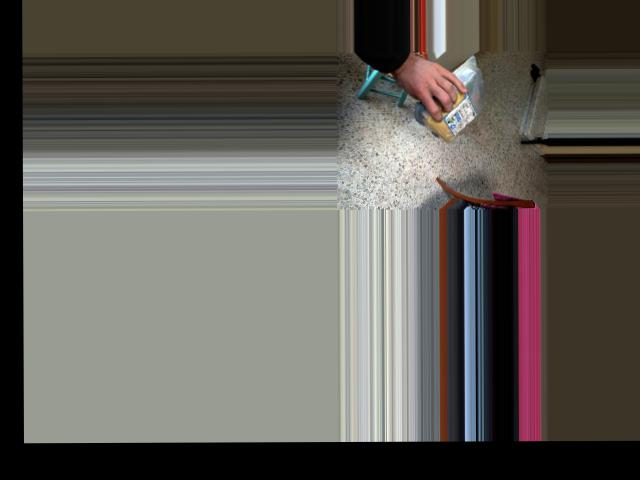cheese: (419, 57, 482, 140)
